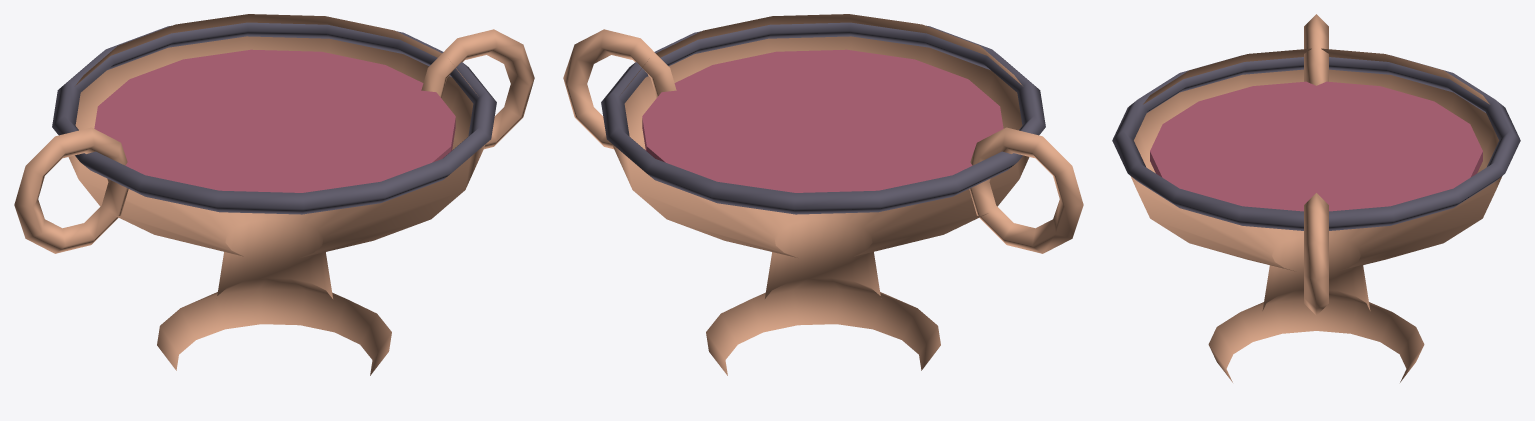
File: mythic-underworld-and-olympus-kylix-cup-c0fc17ba__21422.glb
The picture shows the model from 3 angles, left to right: view 1: azimuth 30°, elevation 25°; view 2: azimuth 150°, elevation 25°; view 3: azimuth 270°, elevation 25°; orthographic projection. The views are drawn at different scales.
Parts seen in each view (by area): view 1: kylix-cup; view 2: kylix-cup; view 3: kylix-cup.
Boxes of the visible parts, x1,y1,x2,y2 form: kylix-cup: (14, 14, 534, 375); kylix-cup: (563, 14, 1083, 375); kylix-cup: (1112, 14, 1520, 382).
Size of the model in its own units: 0.608 by 0.3156 by 0.454.
